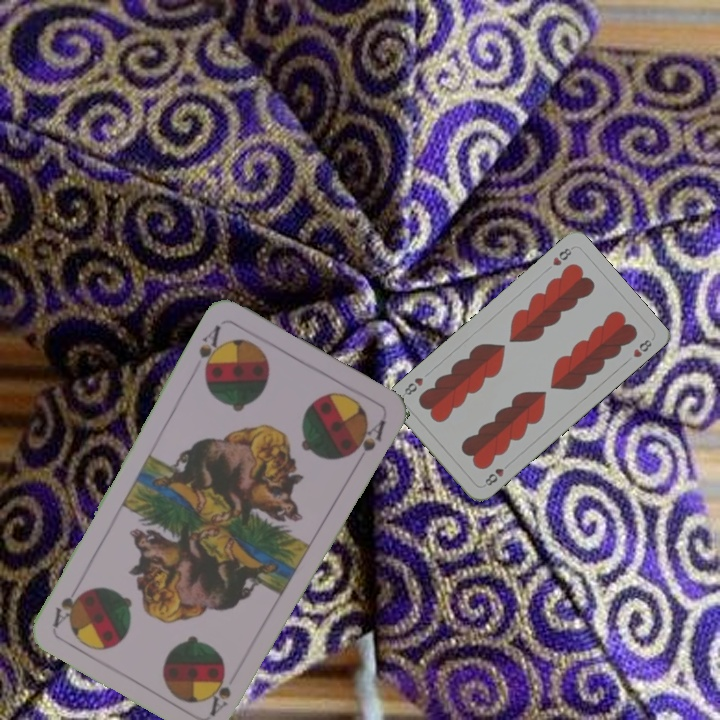H8: (548, 243, 575, 268), (481, 464, 507, 489)
SA: (195, 320, 227, 379), (205, 669, 234, 718)
